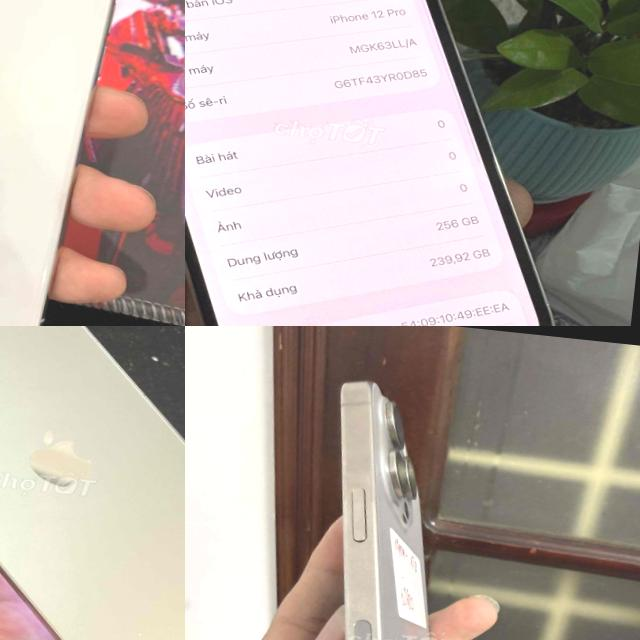gen_12_13: (185, 0, 601, 326)
gen_15: (277, 371, 508, 640)
gen_16: (0, 326, 185, 640)
gen_x_xs: (0, 0, 163, 326)
